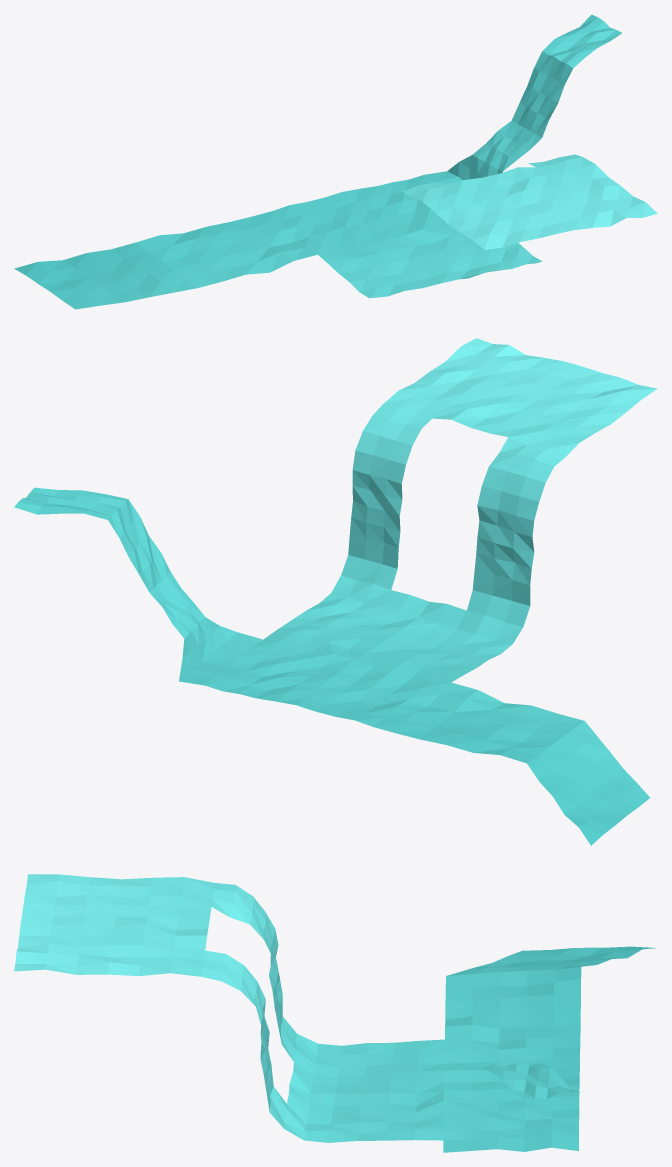
Rendered from Water.gltf.
3 renders of one model, top to bottom at view 1: azimuth 30°, elevation 25°; view 2: azimuth 150°, elevation 25°; view 3: azimuth 270°, elevation 25°, orthographic. The views are drawn at different scales.
Parts seen in each view (by area): view 1: WaterRiver; view 2: WaterRiver; view 3: WaterRiver.
Part boxes in pixels (x1,y1,x2,y2): WaterRiver: (14,14,657,309); WaterRiver: (14,338,657,845); WaterRiver: (14,874,655,1152).
Bounding box in the file's own units: 26.68 × 7.66 × 22.69.
1 material, 1 textured.
